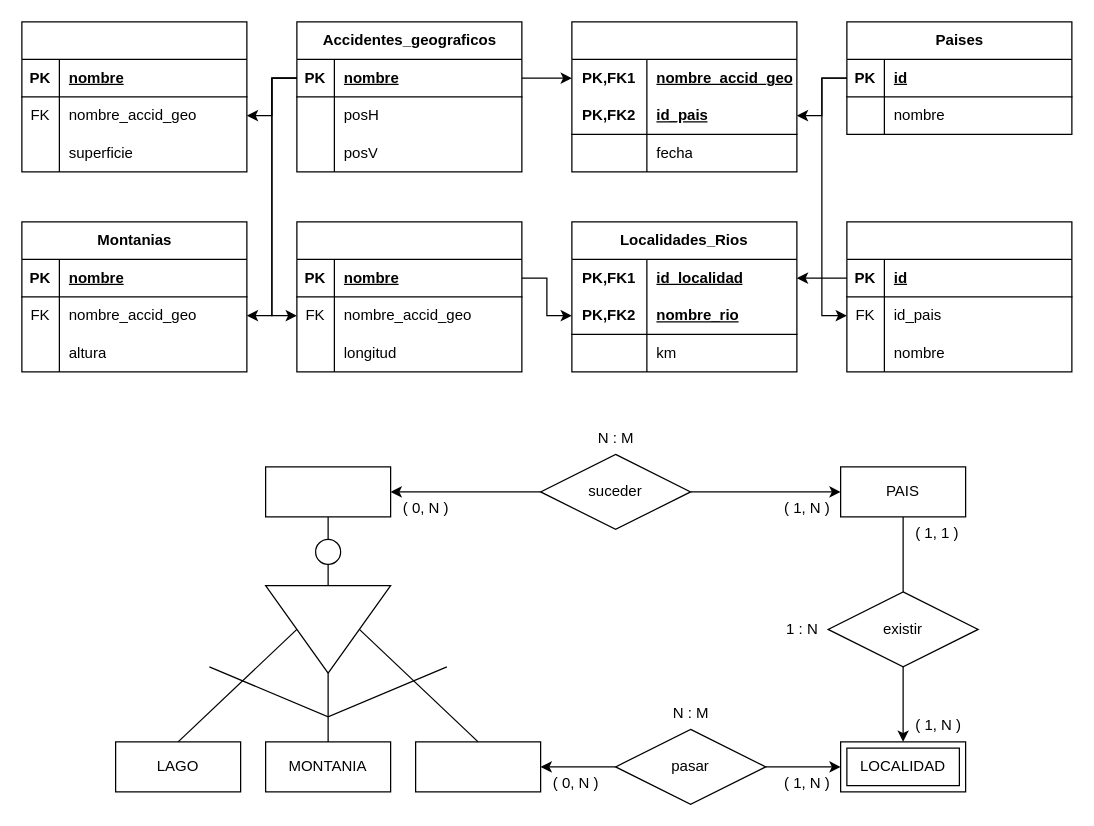
The diagram is 1094 pixels wide and 826 high, and some of its shapes have lost their labels. The shapes that lost their labels are listed below. From the top down, each one's box as (x1, y1, x2, y2) in pixels, then its label:
(21, 21, 247, 172): Lagos
(571, 21, 797, 172): Accidentes_geog_Paises
(296, 221, 522, 372): Rios
(846, 221, 1072, 372): Localidades
(264, 466, 391, 517): ACCIDENTE GEOGRAFICO
(414, 741, 541, 792): RIO
